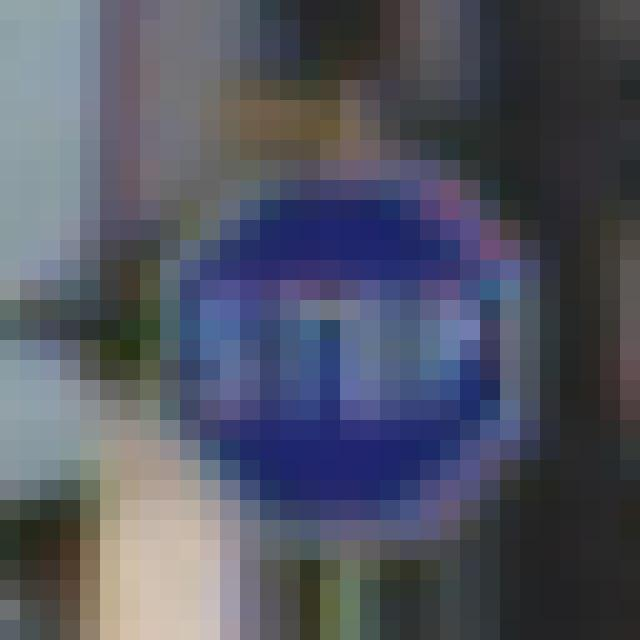STOP: (180, 186, 507, 522)
